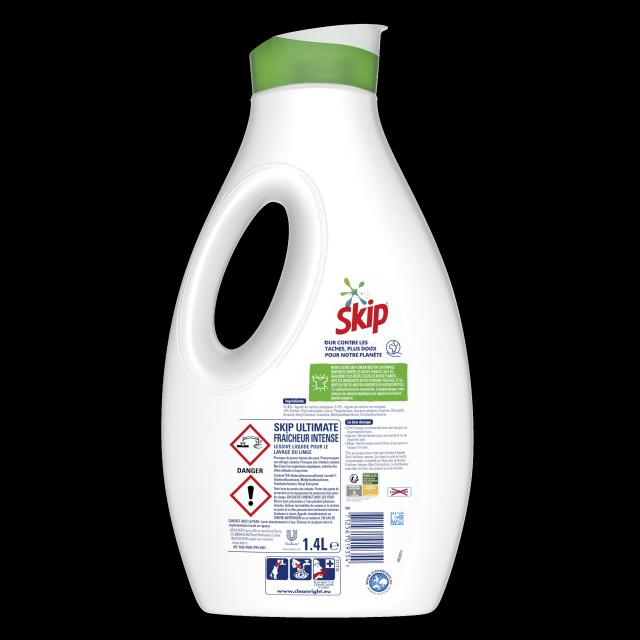GHS_Symbol_CORROSION: (229, 423, 270, 466)
GHS_Symbol_EXCLAMATION_MARK: (229, 474, 272, 517)
